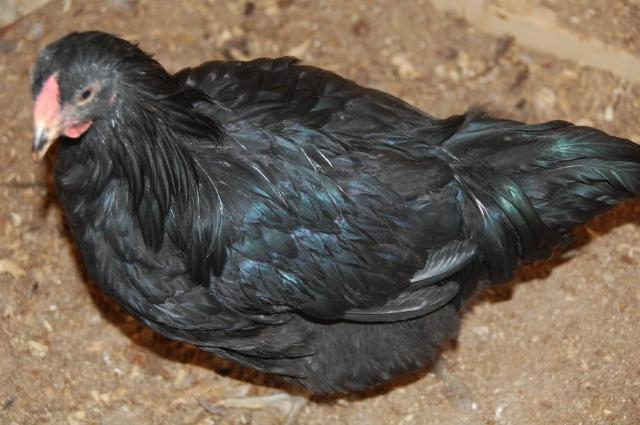Chicken: (28, 29, 640, 407)
